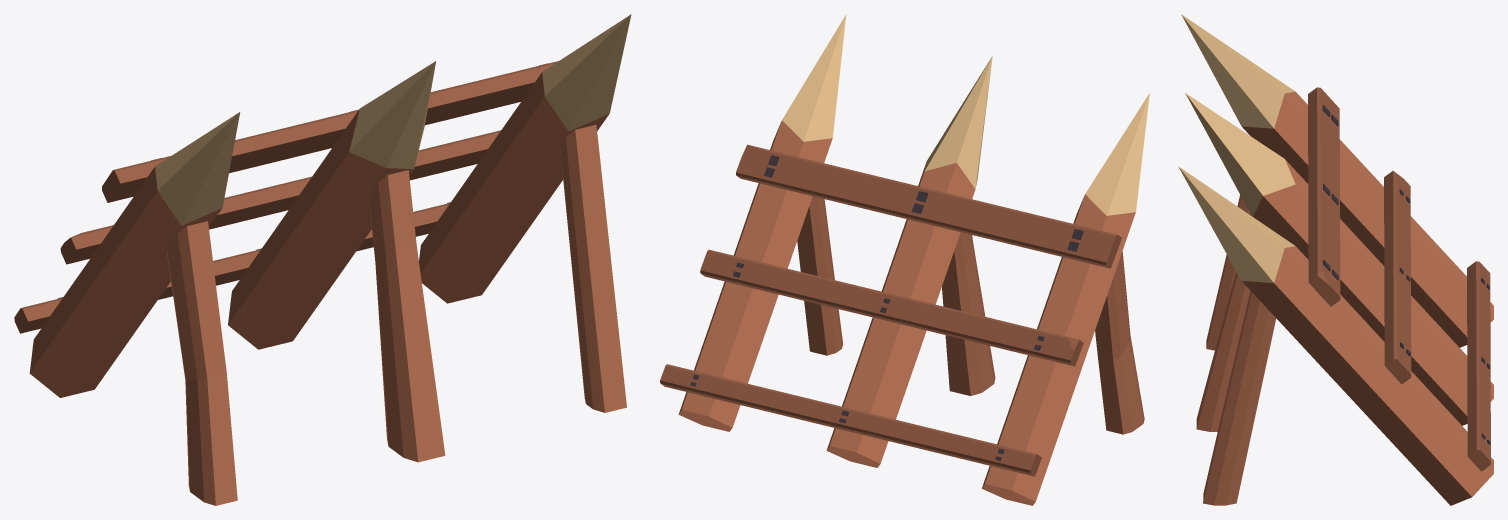
File: Spikes_3.fbx
3 views of the same model, side by side, from view 1: azimuth 30°, elevation 25°; view 2: azimuth 150°, elevation 25°; view 3: azimuth 270°, elevation 25° (orthographic). The views are drawn at different scales.
Parts seen in each view (by area): view 1: Spikes_3; view 2: Spikes_3; view 3: Spikes_3.
Part boxes in pixels (x1,y1,x2,y2): Spikes_3: (14,14,631,505); Spikes_3: (660,14,1149,505); Spikes_3: (1178,14,1493,505).
Bounding box in the file's own units: 1.25 × 1.02 × 0.8742.
